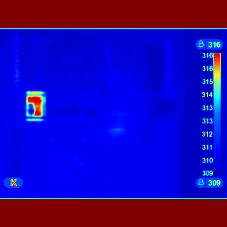High: (20, 89, 49, 127)
